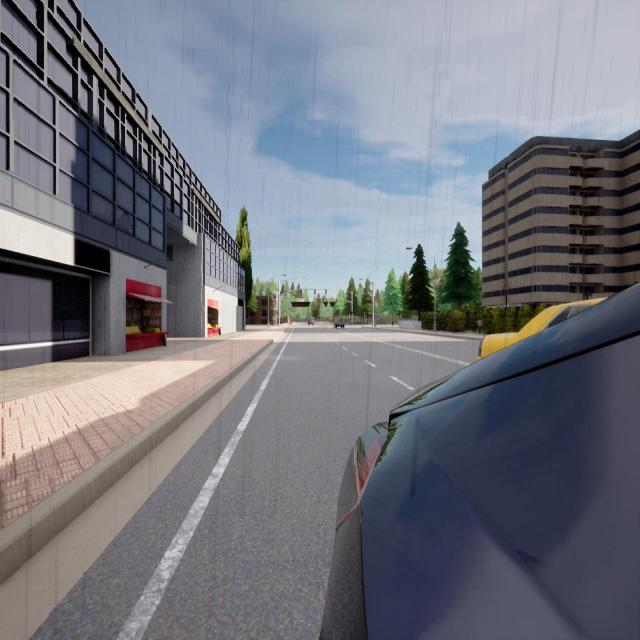Vehicle: (321, 284, 639, 638), (478, 299, 603, 359), (334, 318, 344, 329), (308, 317, 315, 325)
traffic_light: (314, 289, 316, 294), (318, 298, 319, 302), (301, 290, 302, 294), (352, 310, 353, 313), (336, 299, 337, 302), (327, 298, 327, 302), (326, 289, 326, 294)
